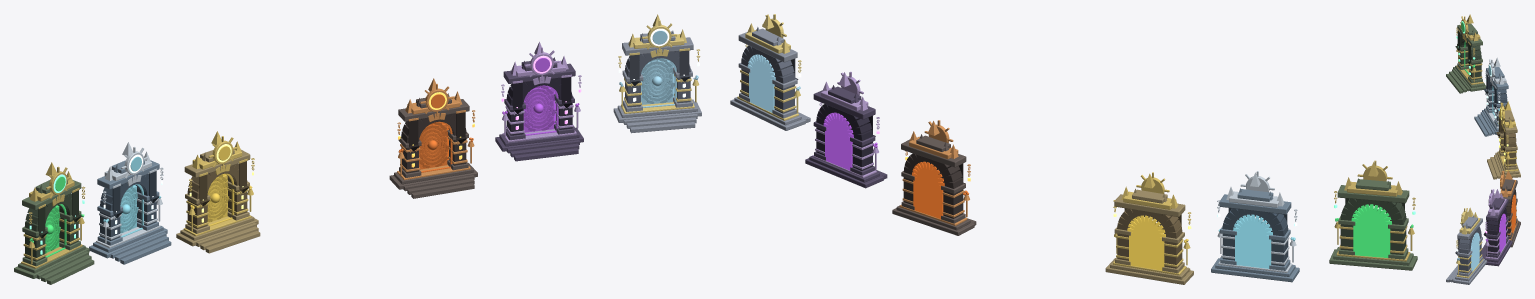
The model's file is 03_Portais.fbx.
The picture shows the model from 3 angles, left to right: view 1: azimuth 30°, elevation 25°; view 2: azimuth 150°, elevation 25°; view 3: azimuth 270°, elevation 25°; orthographic projection. The views are drawn at different scales.
Visible parts, largest first — view 1: Pn_CELESTIAL_Fog, Pn_SHADOW_Fog, Pn_VOLCANO_Fog, Pn_SHADOW_Cor1, Pn_CELESTIAL_Cor1, Pn_VOLCANO_Cor1, Pn_DESERT_Cor1, Pn_CELESTIAL_Dg2, Pn_SHADOW_Dg2; view 2: Pn_FOREST_Fundo, Pn_ICE_Fundo, Pn_DESERT_Fundo, Pn_VOLCANO_Fundo, Pn_SHADOW_Fundo, Pn_CELESTIAL_Fundo, Pn_FOREST_Cor1, Pn_ICE_Cor1, Pn_FOREST_Pl1, Pn_DESERT_Cor1, Pn_ICE_Pl1, Pn_DESERT_Pl1 (+7 smaller); view 3: Pn_CELESTIAL_Fundo, Pn_SHADOW_Pil1, Pn_CELESTIAL_Pil1, Pn_CELESTIAL_Pl1, Pn_FOREST_Pil1, Pn_DESERT_Pil1, Pn_CELESTIAL_Cor1, Pn_SHADOW_Fundo, Pn_SHADOW_Cor1, Pn_SHADOW_Pl1, Pn_FOREST_Cor1, Pn_FOREST_Pl1 (+52 smaller).
Boxes of the visible parts, bbox=[...] form: Pn_CELESTIAL_Fog: bbox=[642, 61, 672, 104]; Pn_SHADOW_Fog: bbox=[524, 88, 553, 132]; Pn_VOLCANO_Fog: bbox=[419, 124, 447, 169]; Pn_SHADOW_Cor1: bbox=[503, 63, 575, 83]; Pn_CELESTIAL_Cor1: bbox=[622, 37, 693, 55]; Pn_VOLCANO_Cor1: bbox=[398, 99, 469, 121]; Pn_DESERT_Cor1: bbox=[184, 149, 250, 177]; Pn_CELESTIAL_Dg2: bbox=[630, 122, 695, 133]; Pn_SHADOW_Dg2: bbox=[514, 148, 578, 161]; Pn_FOREST_Fundo: bbox=[1353, 222, 1390, 257]; Pn_ICE_Fundo: bbox=[1235, 231, 1271, 268]; Pn_DESERT_Fundo: bbox=[1129, 232, 1164, 270]; Pn_VOLCANO_Fundo: bbox=[913, 177, 943, 218]; Pn_SHADOW_Fundo: bbox=[825, 127, 852, 170]; Pn_CELESTIAL_Fundo: bbox=[749, 69, 774, 112]; Pn_FOREST_Cor1: bbox=[1337, 185, 1409, 203]; Pn_ICE_Cor1: bbox=[1219, 194, 1291, 214]; Pn_FOREST_Pl1: bbox=[1329, 249, 1417, 270]; Pn_DESERT_Cor1: bbox=[1114, 194, 1185, 216]; Pn_ICE_Pl1: bbox=[1211, 258, 1299, 282]; Pn_DESERT_Pl1: bbox=[1105, 258, 1193, 284]; Pn_CELESTIAL_Fundo: bbox=[1471, 242, 1479, 271]; Pn_SHADOW_Pil1: bbox=[1487, 237, 1499, 254]; Pn_CELESTIAL_Pil1: bbox=[1458, 255, 1470, 273]; Pn_CELESTIAL_Pl1: bbox=[1453, 260, 1486, 284]; Pn_FOREST_Pil1: bbox=[1469, 62, 1481, 80]; Pn_DESERT_Pil1: bbox=[1505, 150, 1516, 166]; Pn_CELESTIAL_Cor1: bbox=[1457, 218, 1482, 239]; Pn_SHADOW_Fundo: bbox=[1499, 223, 1505, 252]; Pn_SHADOW_Cor1: bbox=[1486, 199, 1508, 221]; Pn_SHADOW_Pl1: bbox=[1485, 241, 1512, 266]; Pn_FOREST_Cor1: bbox=[1457, 25, 1482, 46]; Pn_FOREST_Pl1: bbox=[1453, 67, 1486, 91].
Size of the model in its own units: 18927 by 3784 by 2751.
